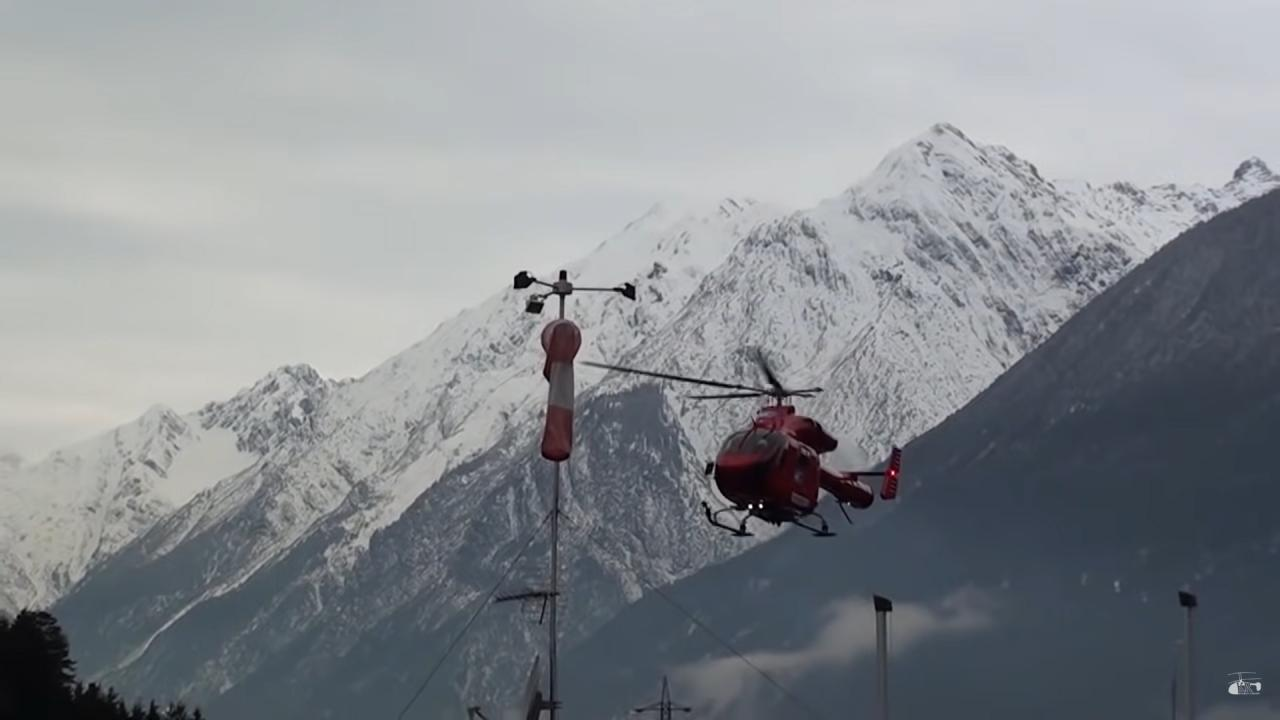Helicopter: (576, 345, 926, 547)
